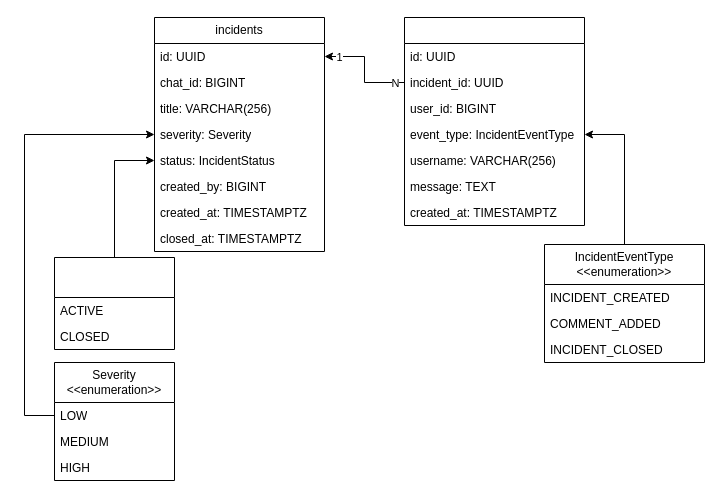
The diagram is 722 pixels wide and 501 high, and some of its shapes have lost their labels. The shapes that lost their labels are listed below. From the top down, each one's box as (x1, y1, x2, y2) in pixels, then its label:
(404, 16, 584, 226): incident_events
(54, 256, 174, 350): IncidentStatus <<enumeration>>
